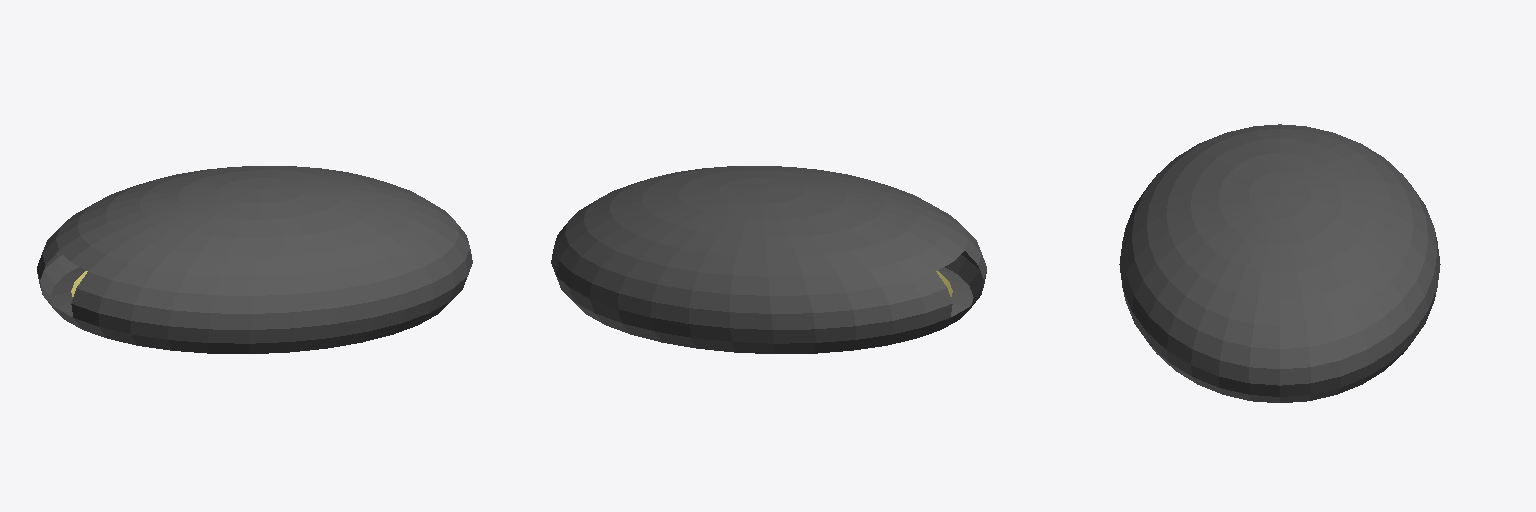
File: street_lamp_light.obj
3 views of the same model, side by side, from view 1: azimuth 30°, elevation 25°; view 2: azimuth 150°, elevation 25°; view 3: azimuth 270°, elevation 25° (orthographic).
Visible parts, largest first — view 1: LightPart_Sphere.001; view 2: LightPart_Sphere.001; view 3: LightPart_Sphere.001.
Boxes of the visible parts, x1,y1,x2,y2 form: LightPart_Sphere.001: [37, 166, 472, 353]; LightPart_Sphere.001: [551, 166, 986, 353]; LightPart_Sphere.001: [1119, 124, 1440, 402].
Size of the model in its own units: 2.9 by 0.9382 by 2.